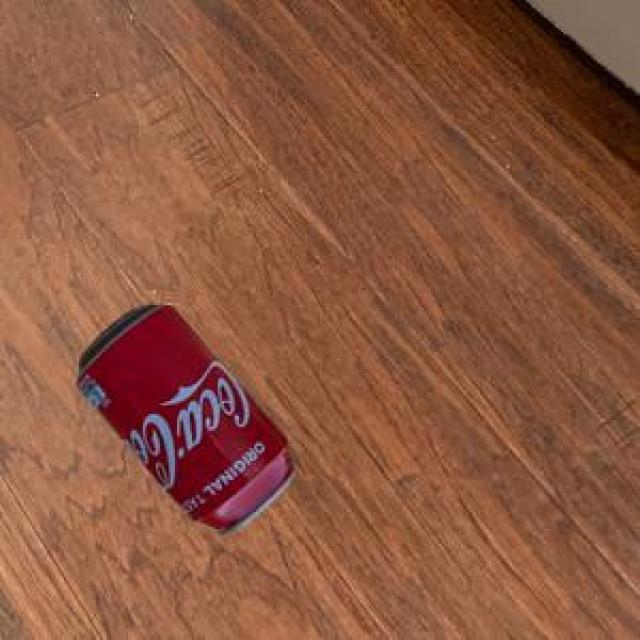logam: (74, 302, 289, 530)
